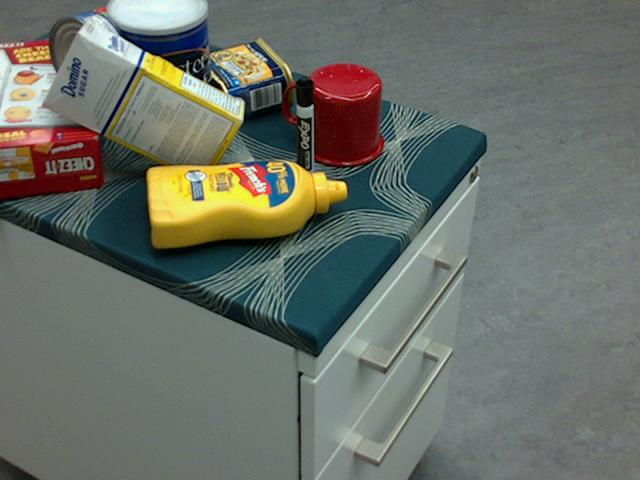cracker_box: (0, 39, 104, 197)
gelatin_box: (54, 6, 147, 66)
large_marker: (294, 76, 314, 183)
master_chef_can: (108, 0, 211, 145)
mug: (282, 62, 381, 166)
mustard_bottle: (146, 159, 347, 248)
potted_meat_can: (193, 37, 294, 122)
sugar_box: (43, 21, 246, 182)
tomato_soup_can: (106, 4, 197, 92)
tuna_fish_can: (49, 11, 130, 100)
